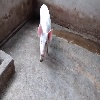heo: (36, 4, 54, 63)
